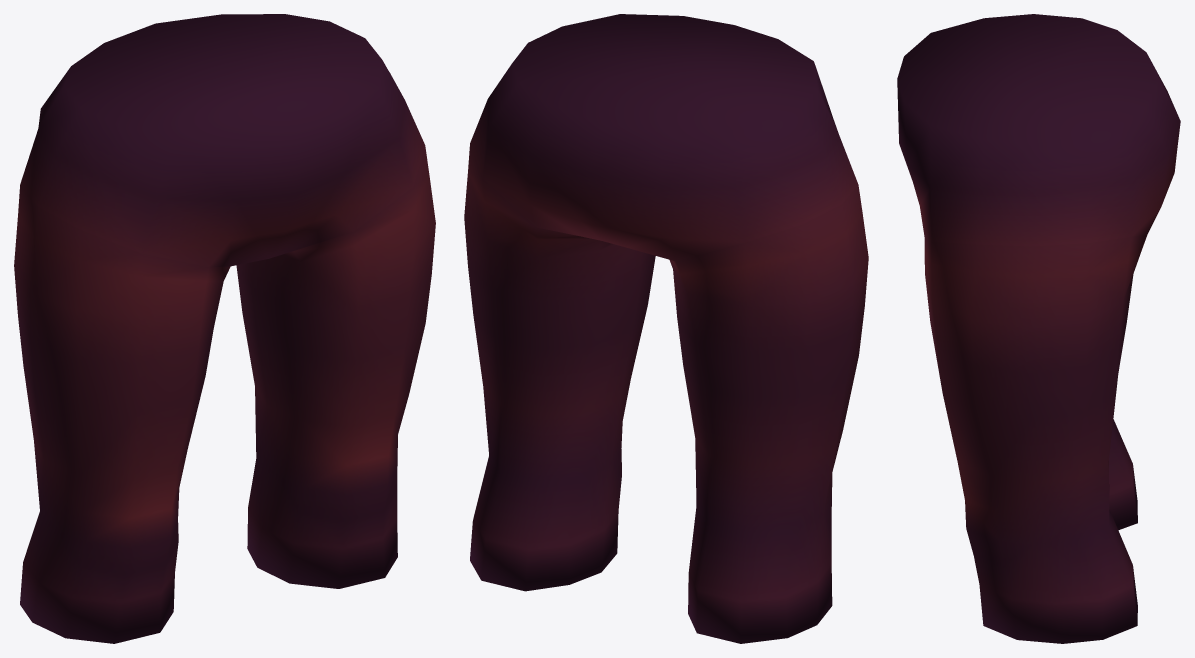
Rendered from Equip_Pants_03_3.FBX.
The picture shows the model from 3 angles, left to right: view 1: azimuth 30°, elevation 25°; view 2: azimuth 150°, elevation 25°; view 3: azimuth 270°, elevation 25°; orthographic projection. The views are drawn at different scales.
Visible parts, largest first — view 1: Equip_Pants_03_3; view 2: Equip_Pants_03_3; view 3: Equip_Pants_03_3.
Boxes of the visible parts, <box> form: Equip_Pants_03_3: <box>14,14,435,643</box>; Equip_Pants_03_3: <box>464,14,868,643</box>; Equip_Pants_03_3: <box>897,14,1180,643</box>.
Size of the model in its own units: 23.64 by 30.19 by 15.99.
